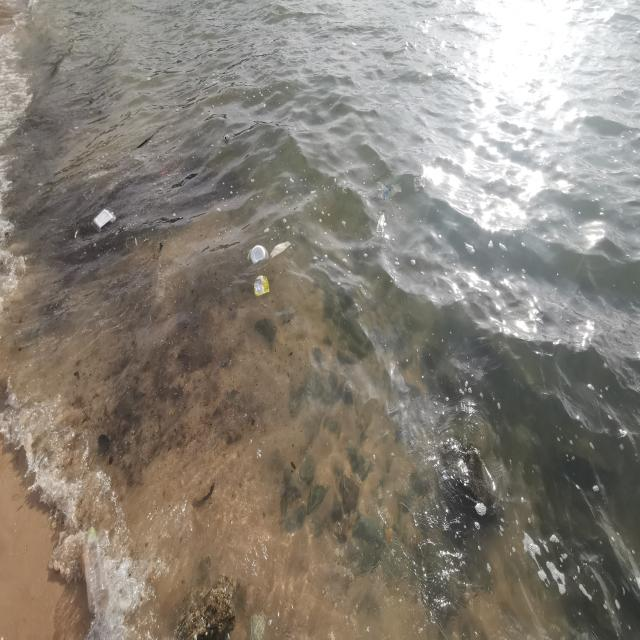foam: (92, 209, 116, 231), (247, 244, 269, 266)
plastic: (376, 214, 386, 234)
plastic bottle: (252, 274, 269, 300), (412, 176, 427, 193)
unknow: (377, 182, 403, 199), (270, 241, 291, 258)
